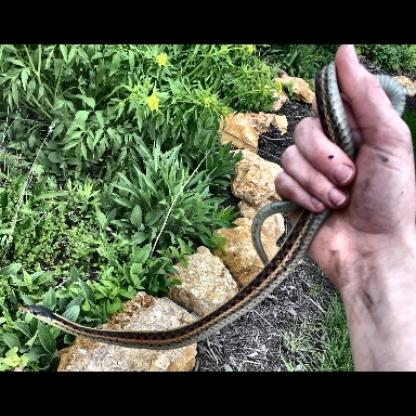Snake: (23, 279, 254, 361)
